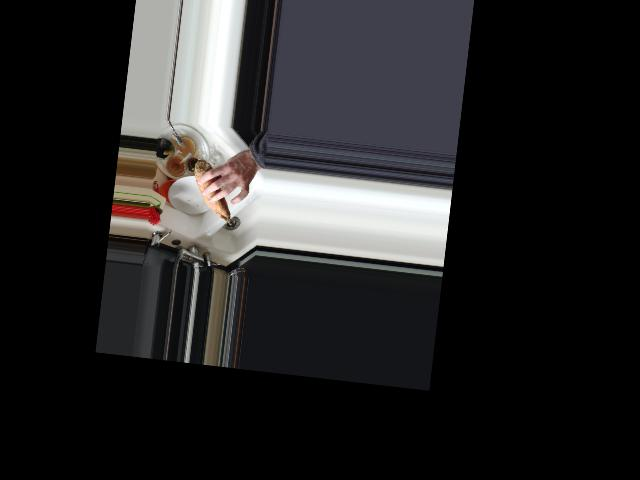sweet_potato: (188, 159, 239, 225)
